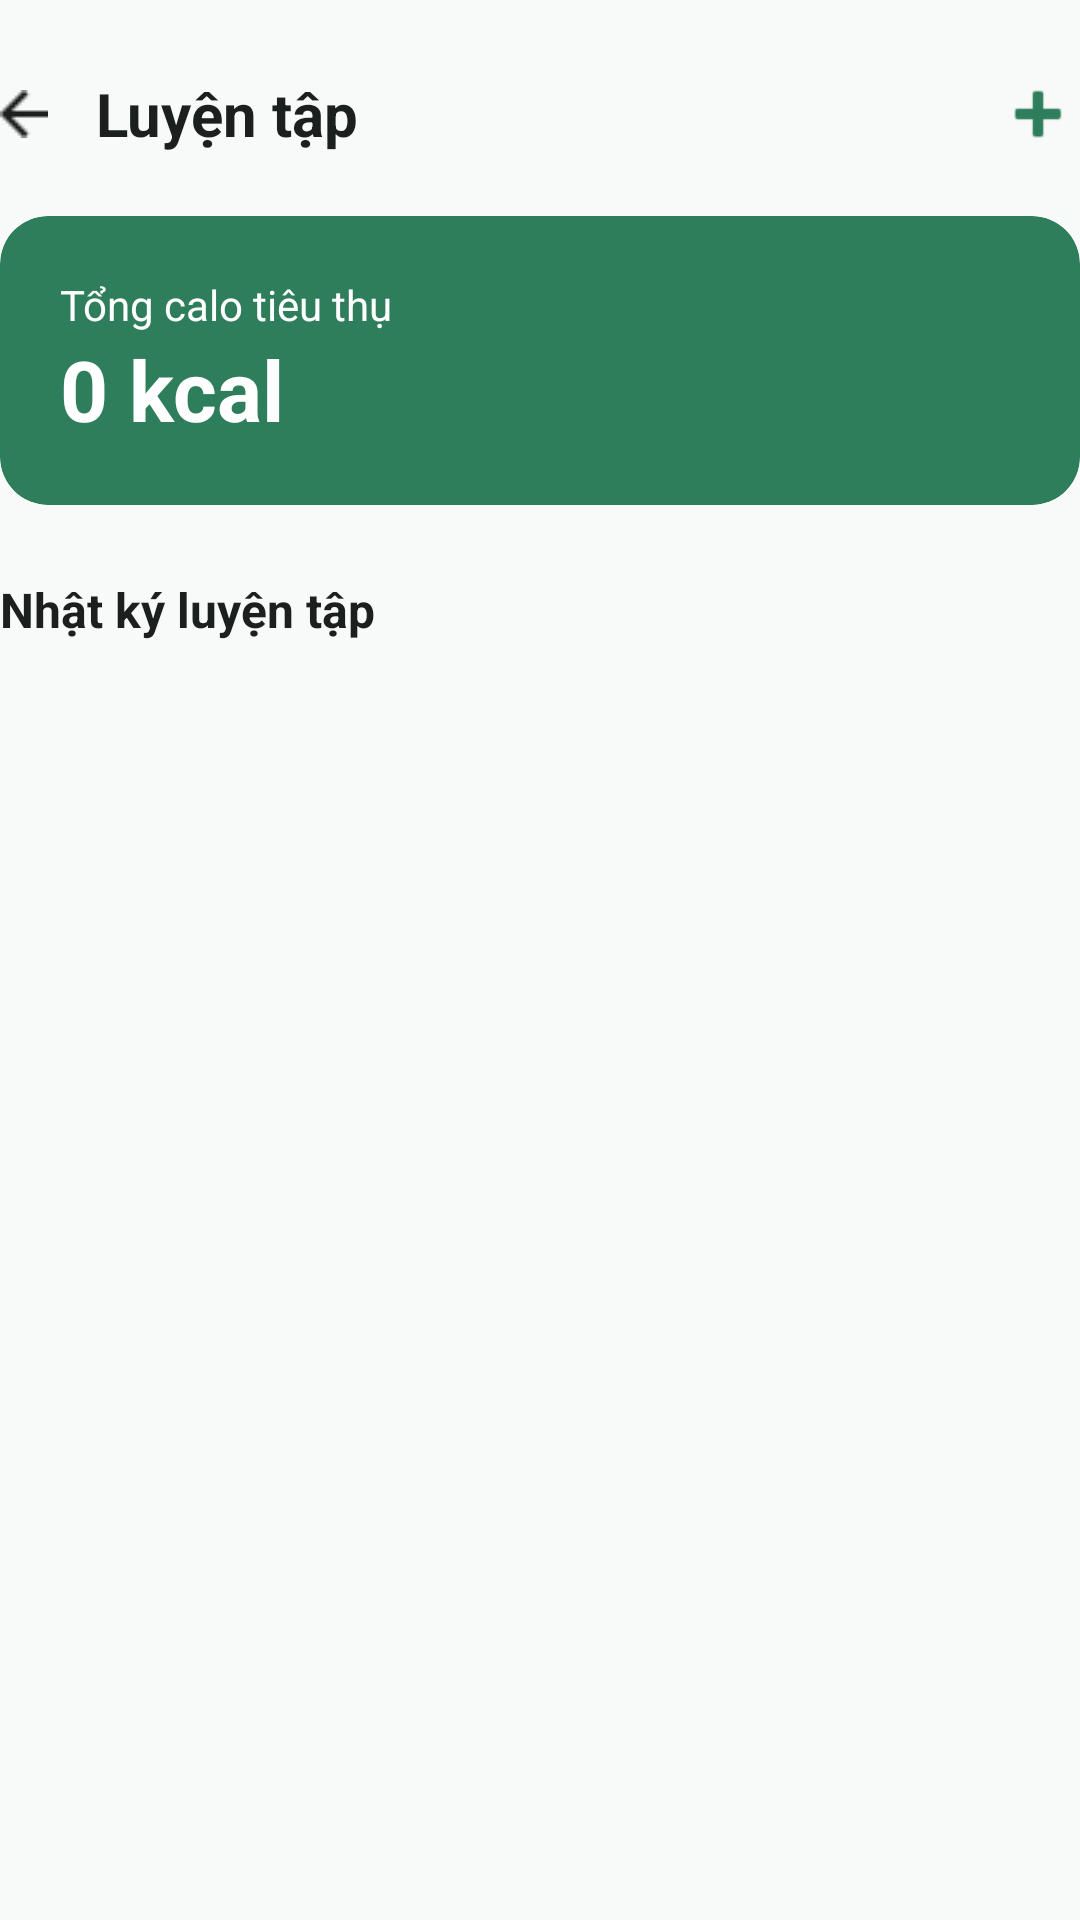

Icon bounding boxes for this 1080*1920 phone screenshot, format {"left": x1, "top": y1, "right": x2, "bottom": y2}:
add: {"left": 1014, "top": 90, "right": 1062, "bottom": 138}
back: {"left": 0, "top": 90, "right": 48, "bottom": 138}
